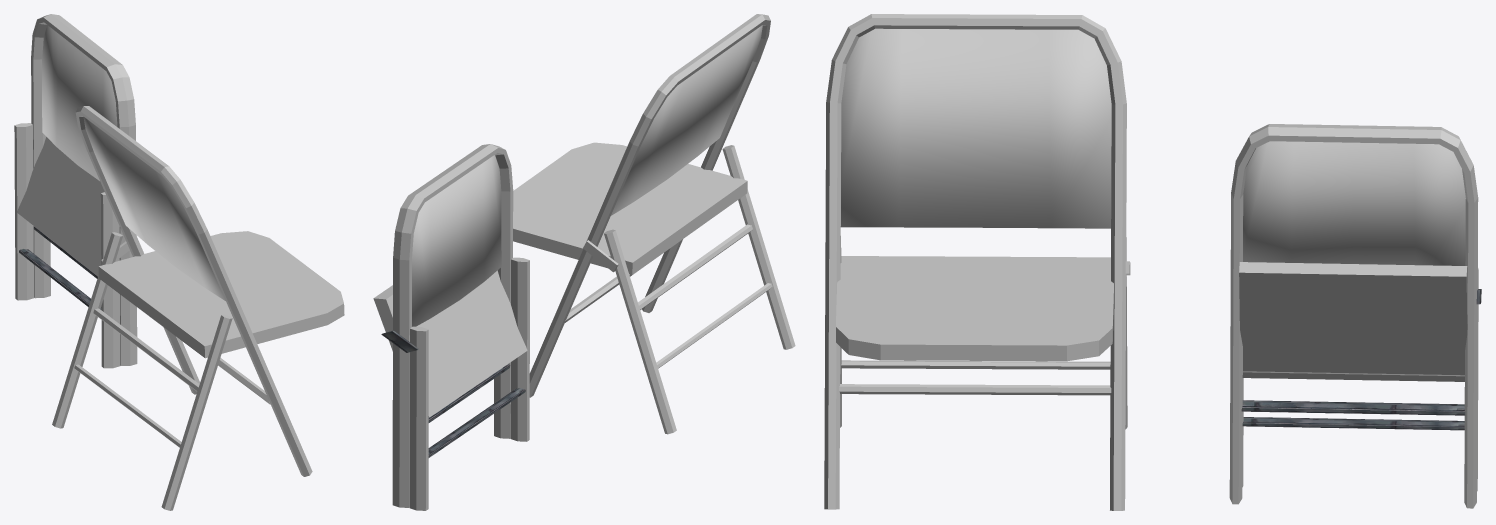
The model's file is Chair.fbx.
3 views of the same model, side by side, from view 1: azimuth 30°, elevation 25°; view 2: azimuth 150°, elevation 25°; view 3: azimuth 270°, elevation 25° (orthographic). The views are drawn at different scales.
Visible parts, largest first — view 1: Cube.070, Cube.001; view 2: Cube.070, Cube.001; view 3: Cube.070, Cube.001.
Boxes of the visible parts, <box> form: Cube.070: <box>52,106,344,510</box>; Cube.001: <box>14,14,137,368</box>; Cube.070: <box>513,14,795,434</box>; Cube.001: <box>373,144,529,510</box>; Cube.070: <box>824,14,1130,510</box>; Cube.001: <box>1229,124,1481,508</box>.
Size of the model in its own units: 1.88 by 2.99 by 4.23.
